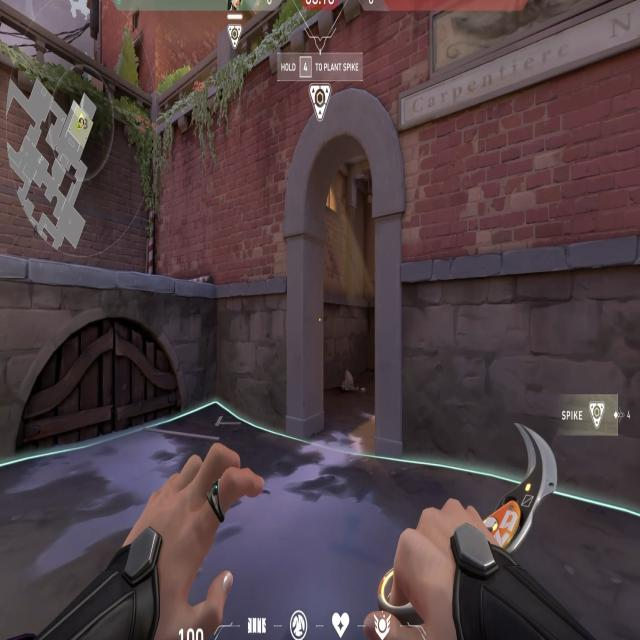B_Boathouse: (283, 83, 410, 462)
